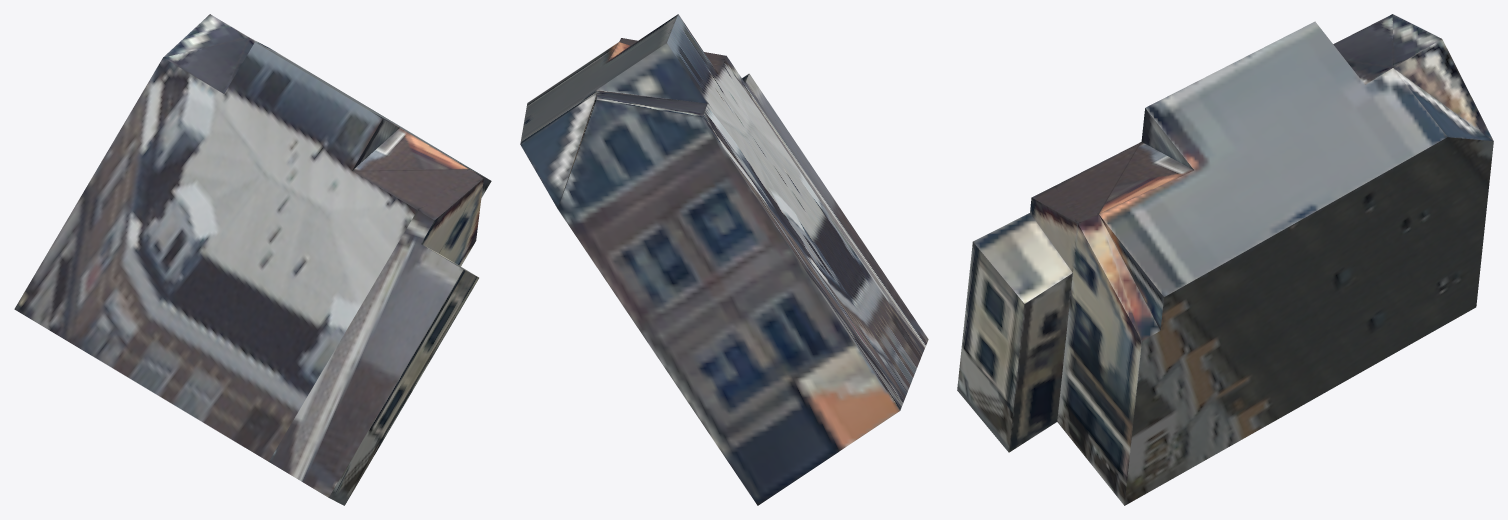
The picture shows the model from 3 angles, left to right: view 1: azimuth 30°, elevation 25°; view 2: azimuth 150°, elevation 25°; view 3: azimuth 270°, elevation 25°; orthographic projection. The views are drawn at different scales.
Visible parts, largest first — view 1: BAG_0599100000650085 (×4); view 2: BAG_0599100000650085 (×3); view 3: BAG_0599100000650085 (×5).
Boxes of the visible parts, box(x1,y1,x2,y2) form: BAG_0599100000650085 (×4): box(14, 14, 491, 505); BAG_0599100000650085 (×3): box(520, 14, 928, 505); BAG_0599100000650085 (×5): box(957, 14, 1493, 505).
Size of the model in its own units: 14.78 by 14.18 by 14.15.
Materials: 1 (1 with a texture image).
